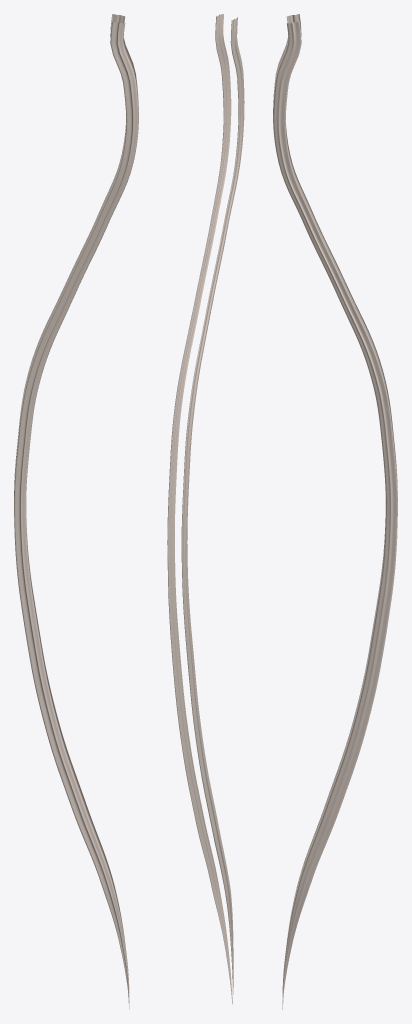
Rendered from nervoso-lateral-fasciculus-proprius.glb.
The picture shows the model from 3 angles, left to right: view 1: azimuth 90°, elevation 25°; view 2: azimuth 150°, elevation 25°; view 3: azimuth 270°, elevation 25°; orthographic projection.
Parts seen in each view (by area): view 1: Lateral fasciculus proprius; view 2: Lateral fasciculus proprius; view 3: Lateral fasciculus proprius.
Boxes of the visible parts, x1,y1,x2,y2 form: Lateral fasciculus proprius: (14,14,138,1009); Lateral fasciculus proprius: (167,14,244,1004); Lateral fasciculus proprius: (273,14,397,1009).
Size of the model in its own units: 0.00904 by 0.4902 by 0.0559.
